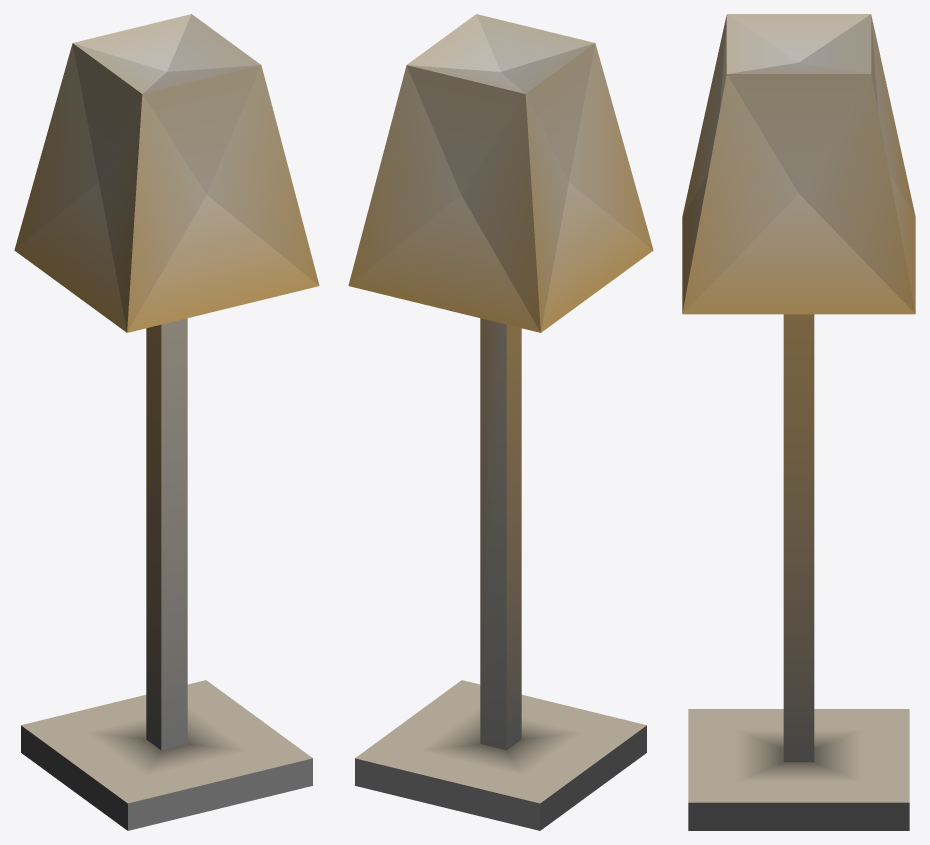
File: scene_lamp.fbx
The picture shows the model from 3 angles, left to right: view 1: azimuth 30°, elevation 25°; view 2: azimuth 150°, elevation 25°; view 3: azimuth 270°, elevation 25°; orthographic projection. The views are drawn at different scales.
Parts seen in each view (by area): view 1: polySurface1; view 2: polySurface1; view 3: polySurface1.
Boxes of the visible parts, <box> form: polySurface1: <box>14,14,319,830</box>; polySurface1: <box>348,14,653,830</box>; polySurface1: <box>682,14,915,830</box>.
Bounding box in the file's own units: 0.4157 × 1.48 × 0.4217.
